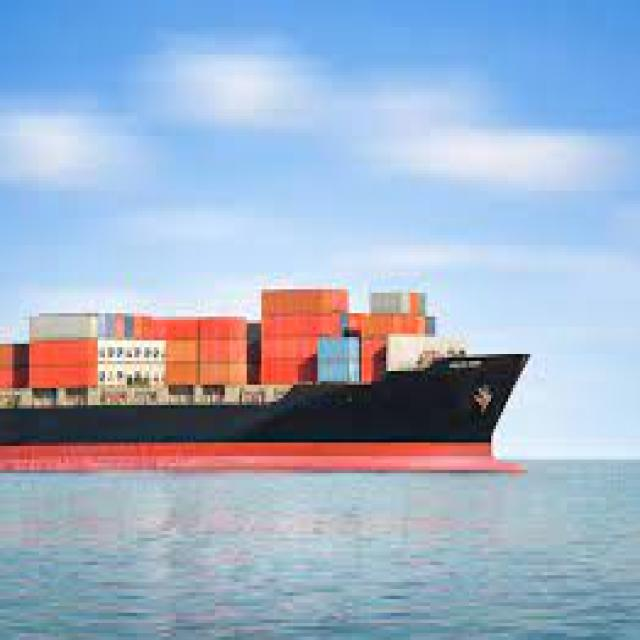cargoship: (0, 262, 533, 480)
